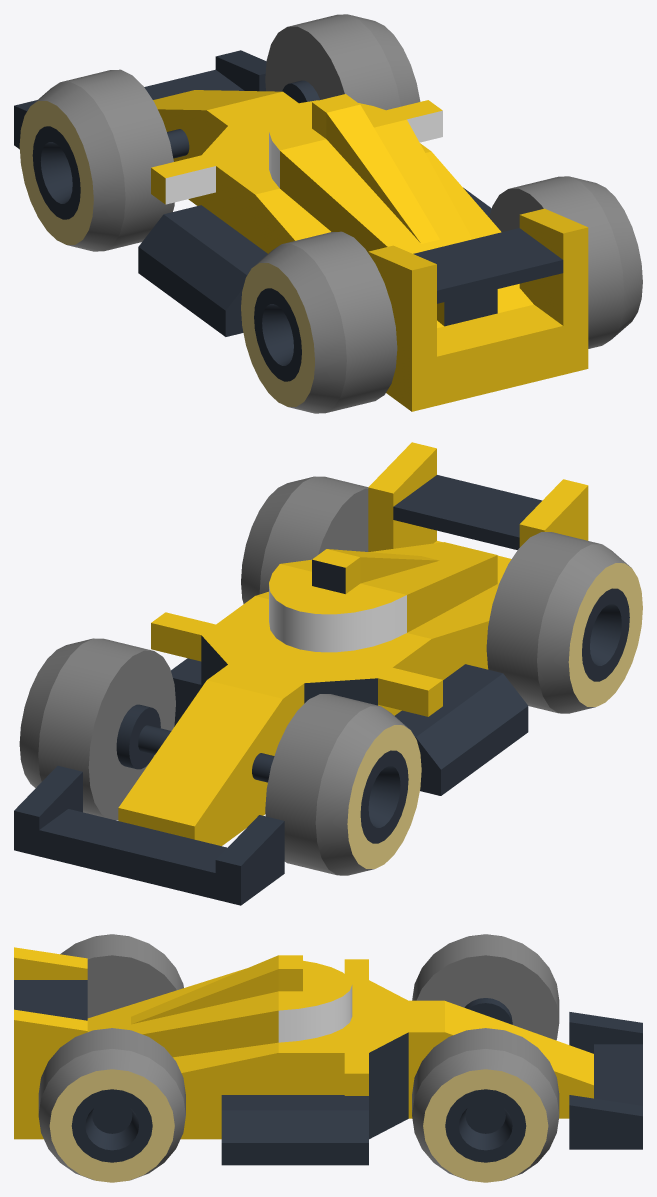
File: race.glb
3 renders of one model, top to bottom at view 1: azimuth 30°, elevation 25°; view 2: azimuth 150°, elevation 25°; view 3: azimuth 270°, elevation 25°, orthographic. The views are drawn at different scales.
Visible parts, largest first — view 1: body, wheel_backLeft, wheel_frontLeft, wheel_backRight, wheel_frontRight; view 2: body, wheel_frontLeft, wheel_backLeft, wheel_frontRight, wheel_backRight; view 3: body, wheel_backRight, wheel_frontRight, wheel_frontLeft, wheel_backLeft.
Part boxes in pixels (left/top/right/bottom): body: left=14, top=50, right=588, bottom=411; wheel_backLeft: left=241, top=231, right=397, bottom=413; wheel_frontLeft: left=19, top=69, right=174, bottom=251; wheel_backRight: left=489, top=176, right=642, bottom=348; wheel_frontRight: left=265, top=14, right=420, bottom=110; body: left=14, top=442, right=588, bottom=905; wheel_frontLeft: left=265, top=694, right=421, bottom=875; wheel_backLeft: left=486, top=532, right=642, bottom=713; wheel_frontRight: left=19, top=638, right=175, bottom=820; wheel_backRight: left=241, top=476, right=368, bottom=603; body: left=14, top=947, right=642, bottom=1165; wheel_backRight: left=38, top=1028, right=185, bottom=1182; wheel_frontRight: left=412, top=1028, right=559, bottom=1182; wheel_frontLeft: left=412, top=934, right=559, bottom=1040; wheel_backLeft: left=60, top=934, right=183, bottom=1018.
Size of the model in its own units: 1.3 by 0.7325 by 2.56.
